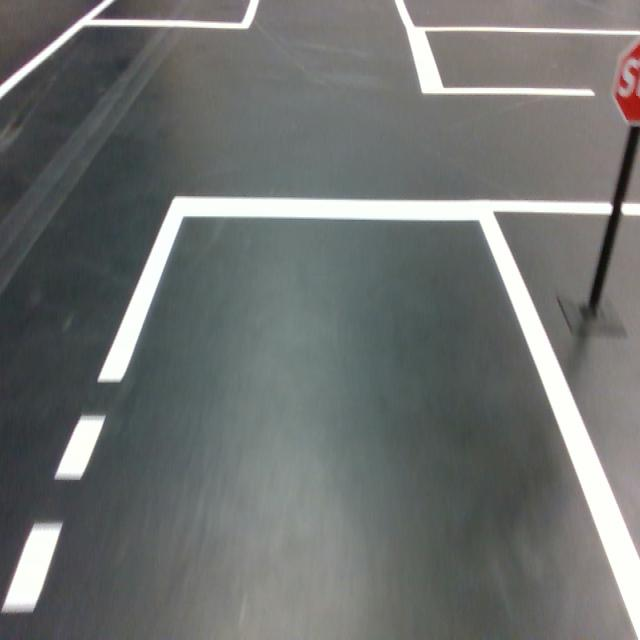stop-sign: (611, 35, 640, 128)
